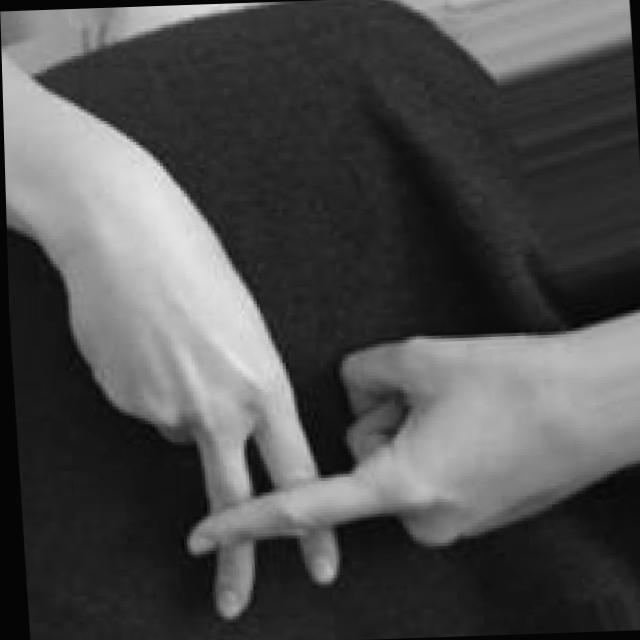A: (60, 227, 466, 634)
